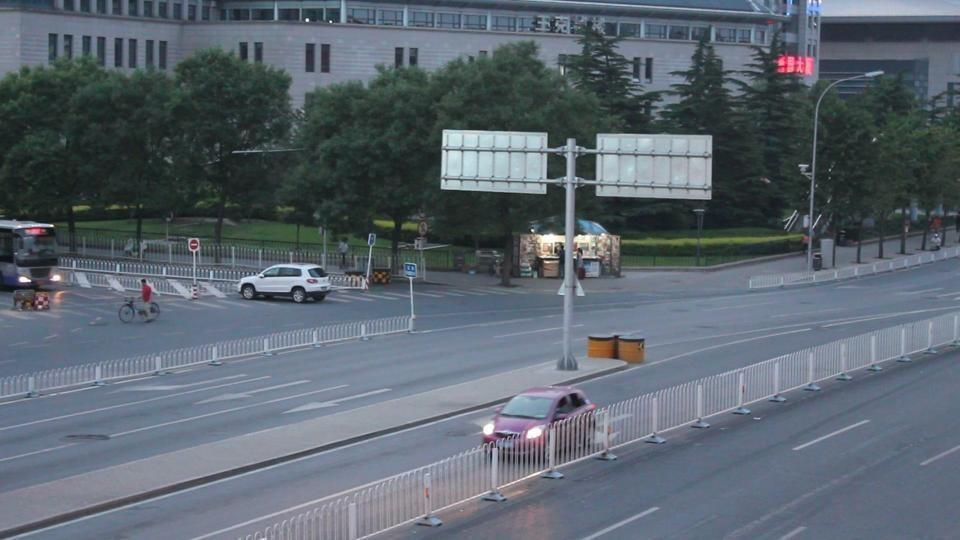car: (480, 385, 600, 452), (237, 263, 331, 304)
